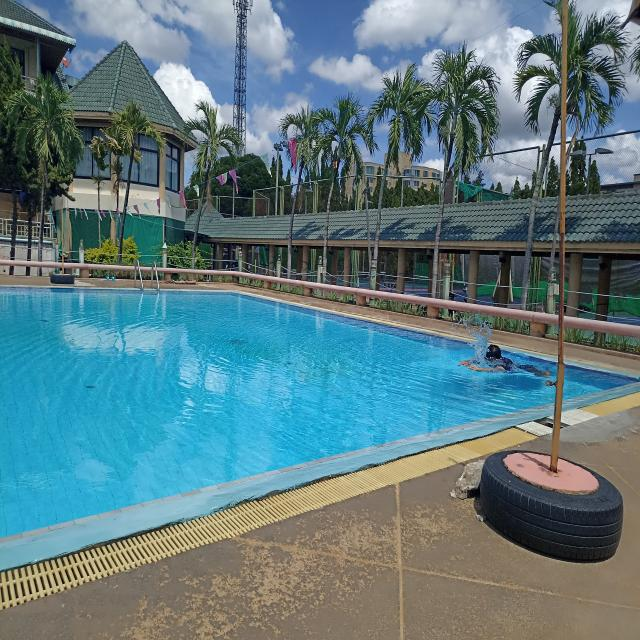Swimming: (452, 334, 553, 390)
